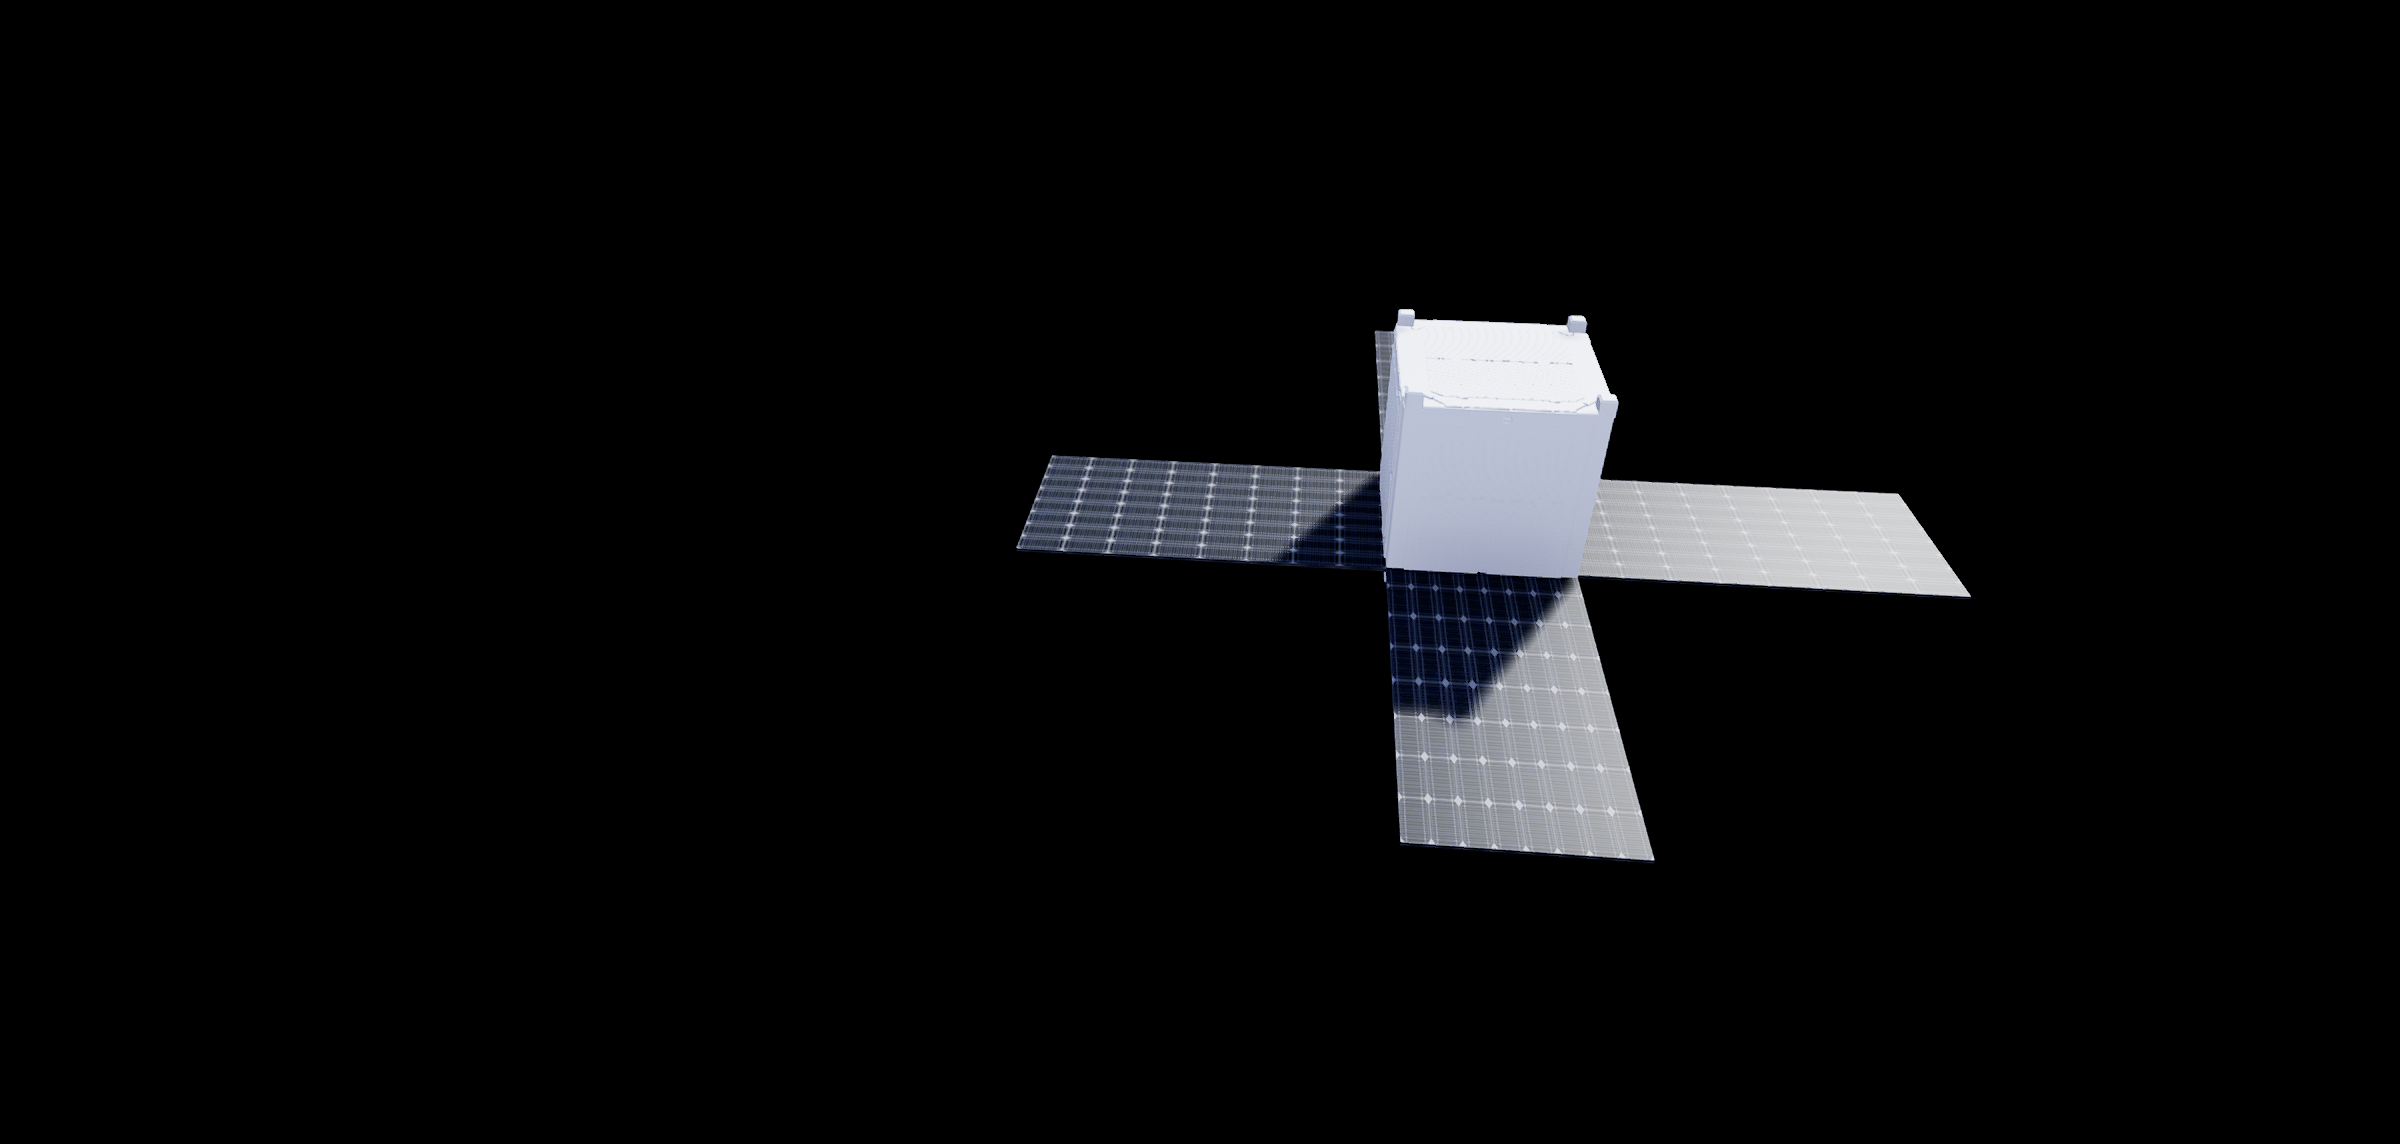satellite: (960, 236, 2023, 925)
